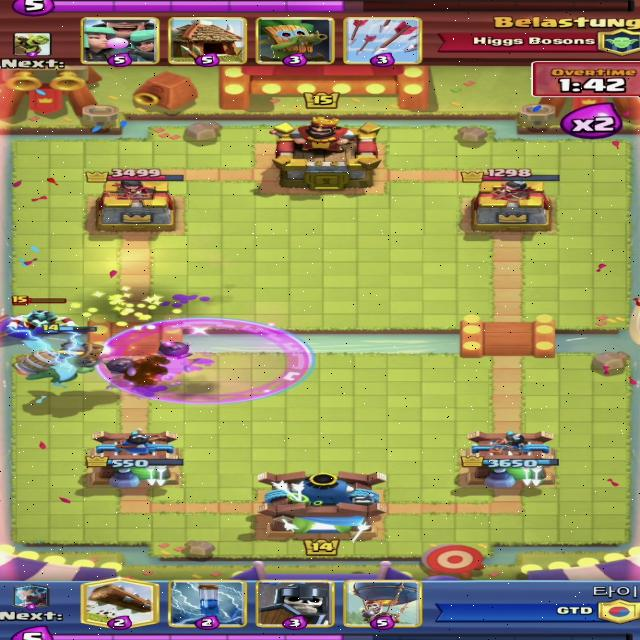Enemy-ElectroWizard: (6, 295, 79, 333)
Player-InfernoDragon: (10, 324, 113, 384)
